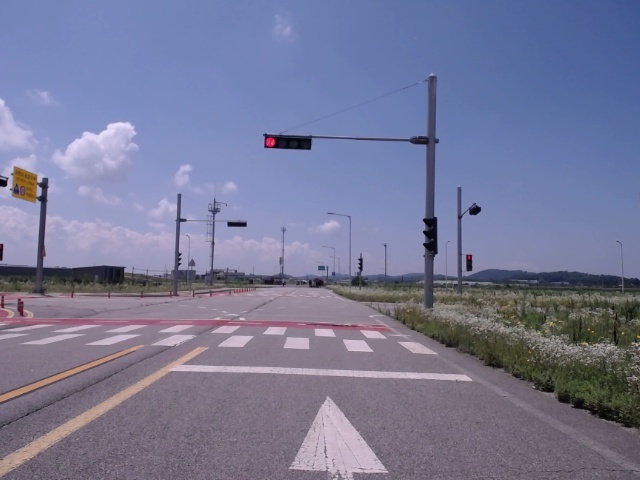red_4: (264, 136, 311, 150)
